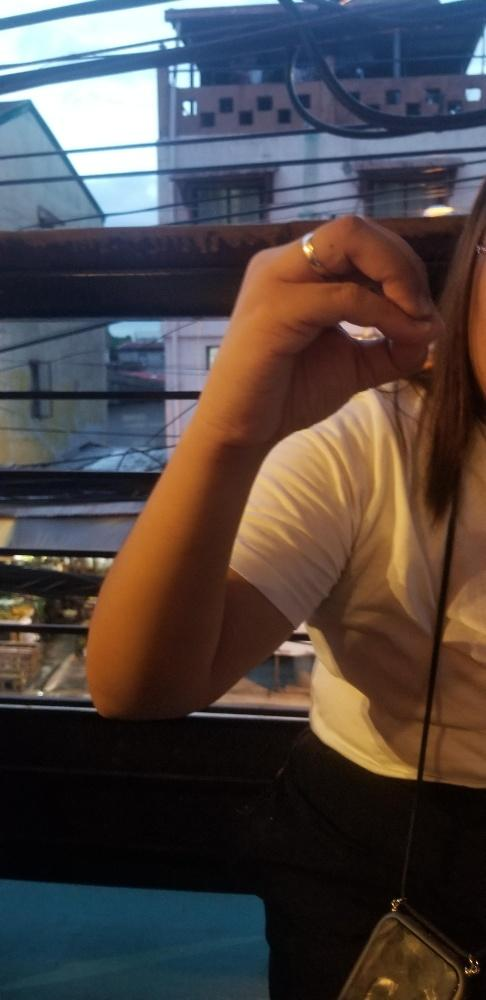o: (232, 210, 436, 433)
